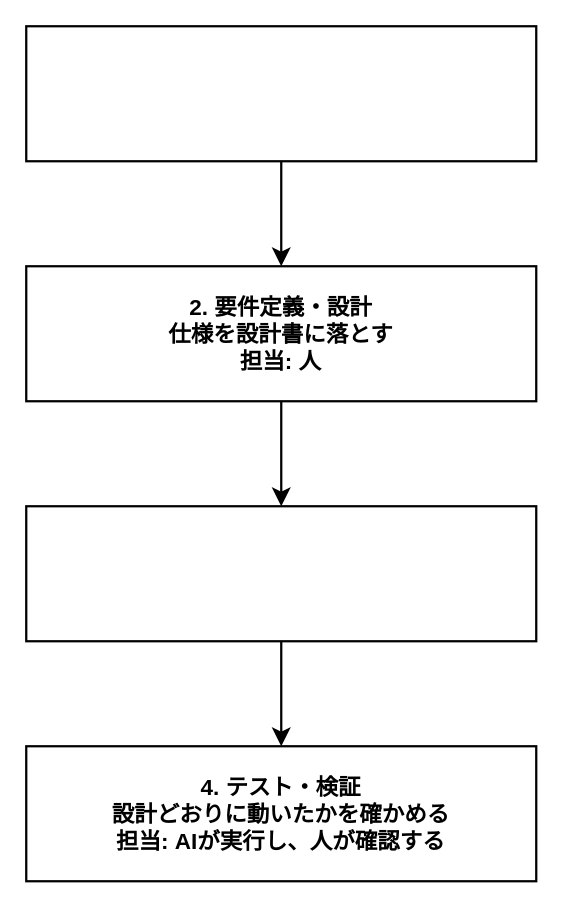
The diagram is 564 pixels wide and 909 high, and some of its shapes have lost their labels. Here are the shapes that lost their labels. From the top down, the centre of each, then its label:
(x=280, y=93): 1. リサーチ・企画 何を作るかを調べて決める 担当: AIでもかなりできる
(x=280, y=573): 3. 実装 設計書どおりにコードを書く 担当: AI（人は指示と差分の確認）
